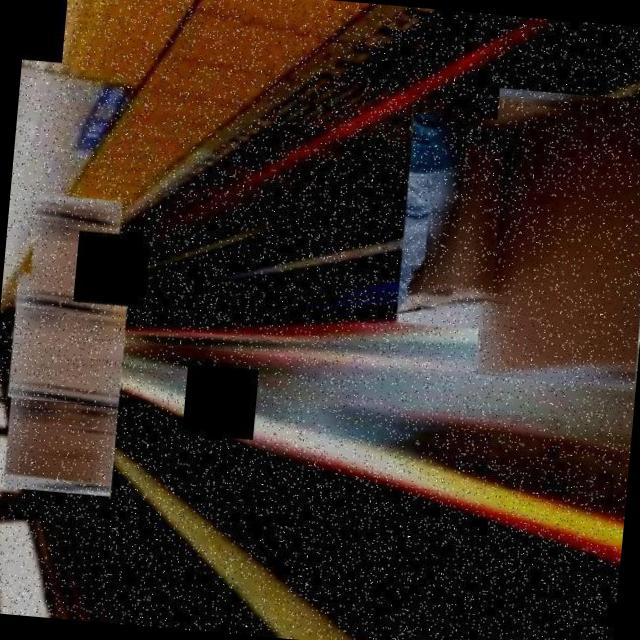box: (472, 79, 640, 391), (392, 108, 508, 333), (5, 272, 130, 406), (0, 375, 122, 498), (26, 191, 123, 312)
